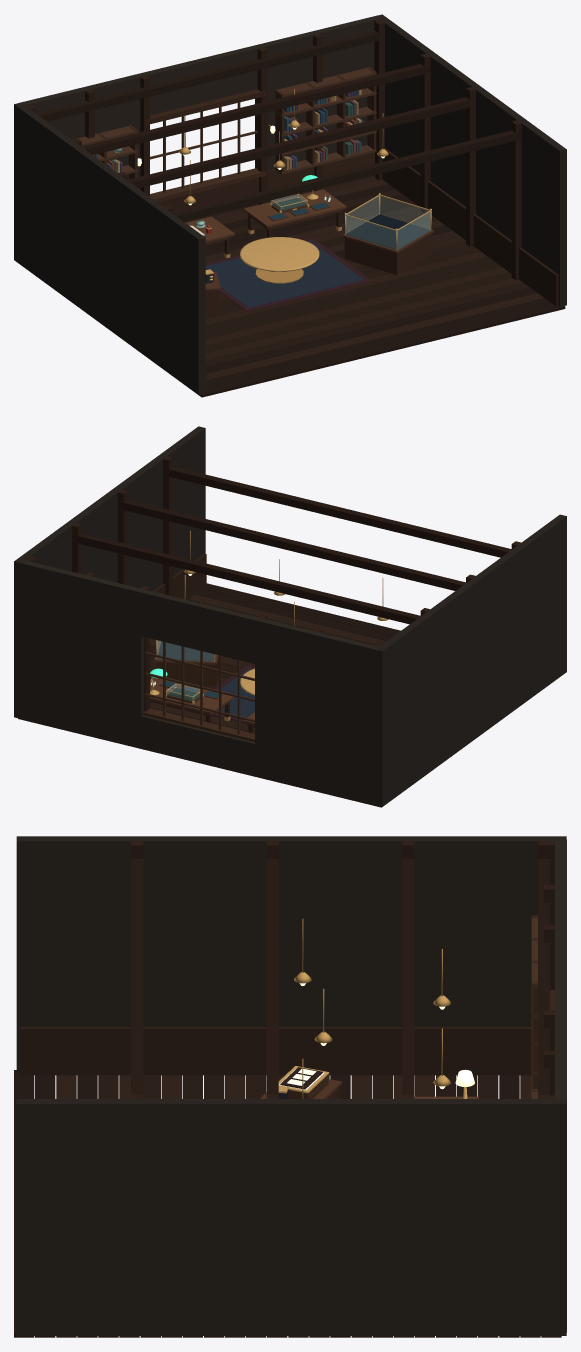
Rendered from curiosity-room.glb.
3 views of the same model, one above another, from view 1: azimuth 30°, elevation 25°; view 2: azimuth 150°, elevation 25°; view 3: azimuth 270°, elevation 25° (orthographic). The views are drawn at different scales.
Parts seen in each view (by area): view 1: Room_Timber_Arch, Room_Deep_Walls, Room_Books_Curios, Terrarium_Cabinet_Wood, Atlas_Pedestal_Brass, Terrarium_Glass_Walls, Lab_Desk_Top, Moyan_Desk_Top, Room_Hardware_Brass, Terrarium_Frame_Brass, Lab_Desk_Frame, Photo_Cabinet_Wood; view 2: Room_Deep_Walls, Room_Timber_Arch, Terrarium_Cabinet_Wood, Room_Books_Curios, Lab_Desk_Top, Terrarium_Glass_Walls; view 3: Room_Deep_Walls, Room_Timber_Arch, Room_Hardware_Brass, Photo_Cabinet_Wood.
Part boxes in pixels (<box>): Room_Timber_Arch: <box>23,18,565,397</box>; Room_Deep_Walls: <box>14,14,566,395</box>; Room_Books_Curios: <box>93,89,371,311</box>; Terrarium_Cabinet_Wood: <box>342,214,433,274</box>; Atlas_Pedestal_Brass: <box>240,237,319,283</box>; Terrarium_Glass_Walls: <box>346,196,430,249</box>; Lab_Desk_Top: <box>243,189,346,227</box>; Moyan_Desk_Top: <box>186,216,234,242</box>; Room_Hardware_Brass: <box>179,89,388,203</box>; Terrarium_Frame_Brass: <box>344,193,431,250</box>; Lab_Desk_Frame: <box>247,209,342,237</box>; Photo_Cabinet_Wood: <box>205,271,220,312</box>; Room_Deep_Walls: <box>14,426,566,806</box>; Room_Timber_Arch: <box>18,456,520,807</box>; Terrarium_Cabinet_Wood: <box>154,641,221,686</box>; Room_Books_Curios: <box>213,665,254,723</box>; Lab_Desk_Top: <box>150,677,234,714</box>; Terrarium_Glass_Walls: <box>157,640,215,661</box>; Room_Deep_Walls: <box>16,836,566,1335</box>; Room_Timber_Arch: <box>14,840,561,1337</box>; Room_Hardware_Brass: <box>294,918,451,1098</box>; Photo_Cabinet_Wood: <box>260,1071,342,1098</box>.
Size of the model in its own units: 16.82 by 6.9 by 14.68.
